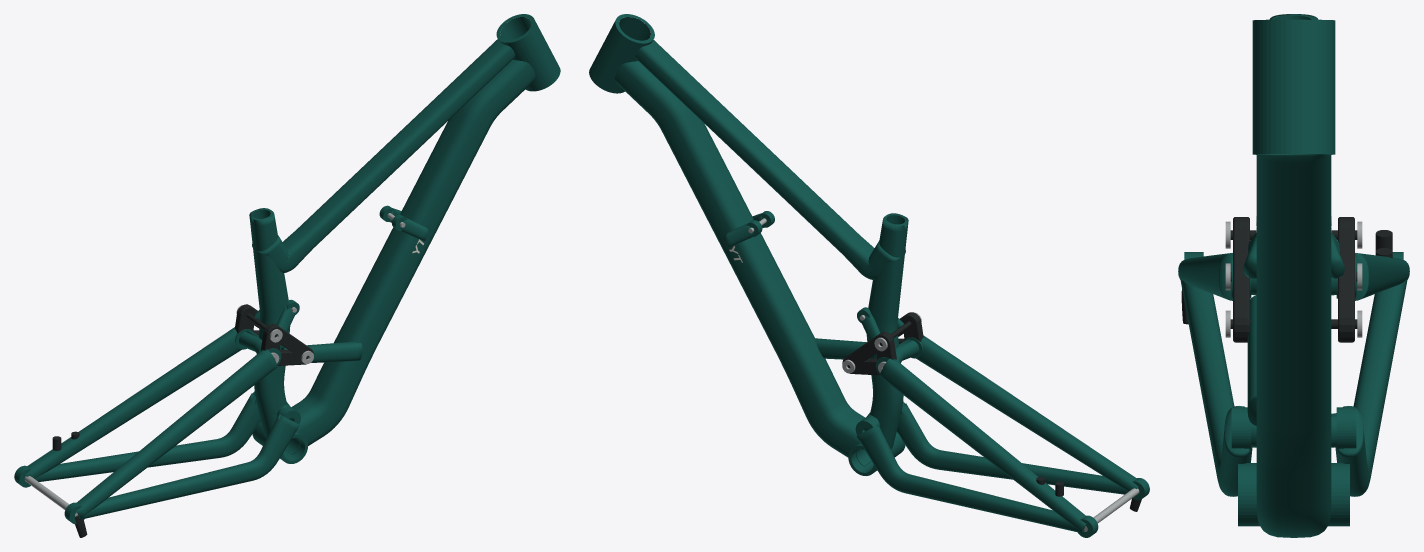
Rendered from yt-capra-mk3-carbon-mx--m.glb.
The picture shows the model from 3 angles, left to right: view 1: azimuth 30°, elevation 25°; view 2: azimuth 150°, elevation 25°; view 3: azimuth 270°, elevation 25°; orthographic projection. The views are drawn at different scales.
Visible parts, largest first — view 1: yt-capra-mk3-carbon-mx__paint_0, yt-capra-mk3-carbon-mx__detail_1, yt-capra-mk3-carbon-mx__detail_2; view 2: yt-capra-mk3-carbon-mx__paint_0, yt-capra-mk3-carbon-mx__detail_1, yt-capra-mk3-carbon-mx__detail_2; view 3: yt-capra-mk3-carbon-mx__paint_0, yt-capra-mk3-carbon-mx__detail_1, yt-capra-mk3-carbon-mx__detail_2.
Part boxes in pixels (<box>): yt-capra-mk3-carbon-mx__paint_0: <box>14,14,560,524</box>; yt-capra-mk3-carbon-mx__detail_1: <box>52,304,313,537</box>; yt-capra-mk3-carbon-mx__detail_2: <box>24,213,405,516</box>; yt-capra-mk3-carbon-mx__paint_0: <box>589,14,1149,537</box>; yt-capra-mk3-carbon-mx__detail_1: <box>842,312,1141,511</box>; yt-capra-mk3-carbon-mx__detail_2: <box>748,218,1139,531</box>; yt-capra-mk3-carbon-mx__paint_0: <box>1178,14,1409,537</box>; yt-capra-mk3-carbon-mx__detail_1: <box>1181,217,1392,342</box>; yt-capra-mk3-carbon-mx__detail_2: <box>1225,216,1362,337</box>.
Size of the model in its own units: 0.9717 by 0.6938 by 0.1899.
5 materials, 2 textured.
